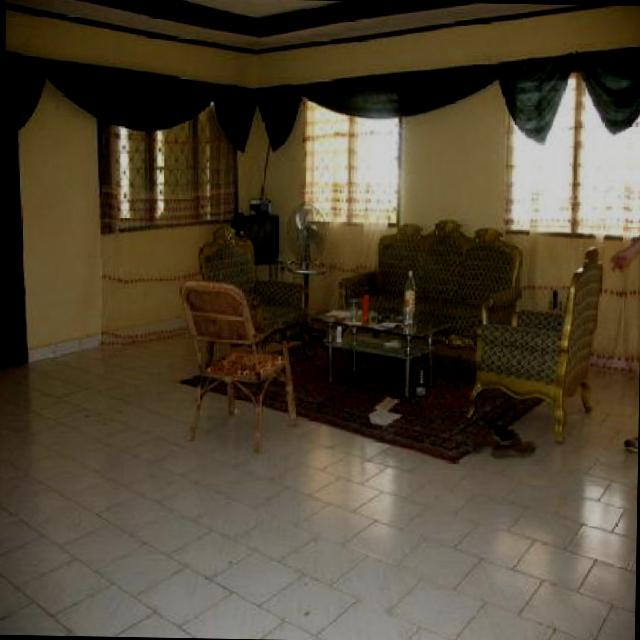Person: (609, 233, 640, 275)
